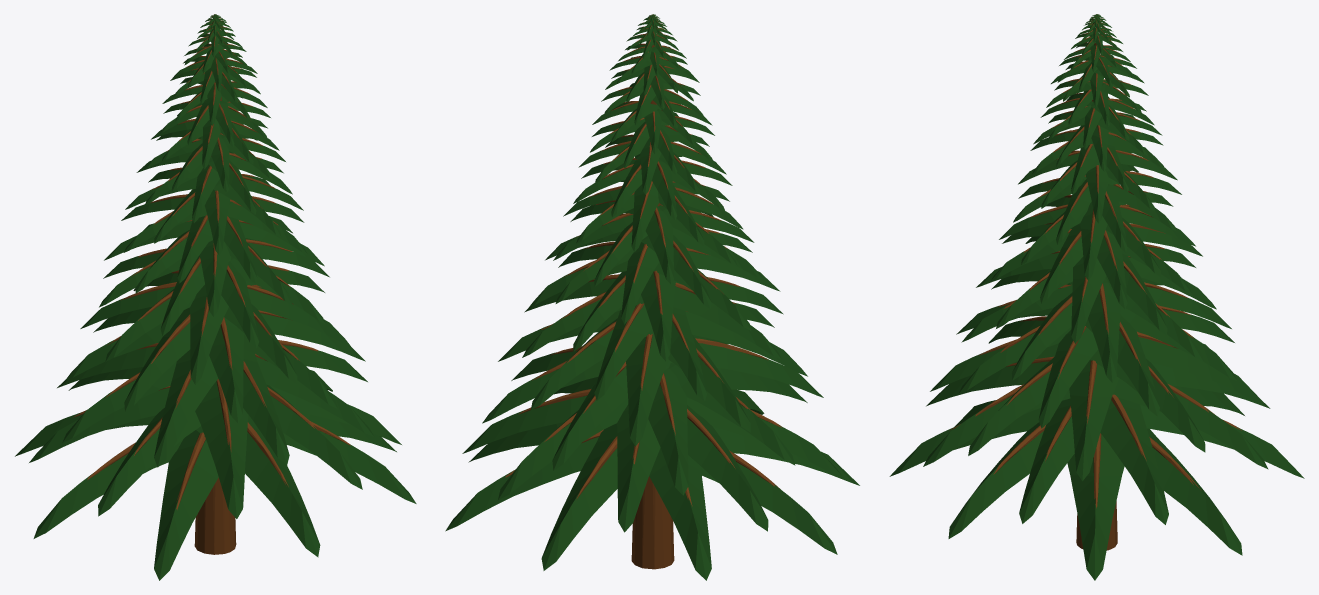
The model's file is Tree_Fir.fbx.
3 views of the same model, side by side, from view 1: azimuth 30°, elevation 25°; view 2: azimuth 150°, elevation 25°; view 3: azimuth 270°, elevation 25° (orthographic). The views are drawn at different scales.
Visible parts, largest first — view 1: Leaves.001, Twig.001, Trunk; view 2: Leaves.001, Twig.001, Trunk; view 3: Leaves.001, Twig.001.
Part boxes in pixels (left/top/right/bottom): Leaves.001: left=15, top=14, right=416, bottom=580; Twig.001: left=73, top=14, right=350, bottom=509; Trunk: left=194, top=45, right=236, bottom=554; Leaves.001: left=445, top=14, right=859, bottom=580; Twig.001: left=505, top=14, right=782, bottom=506; Trunk: left=631, top=45, right=674, bottom=569; Leaves.001: left=889, top=14, right=1304, bottom=580; Twig.001: left=949, top=14, right=1241, bottom=508.
Bounding box in the file's own units: 570 × 800 × 570.
